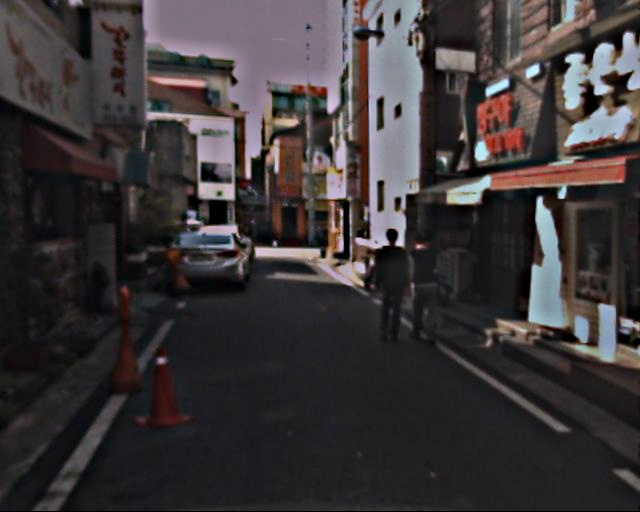person: (370, 227, 418, 345), (405, 228, 453, 345)
